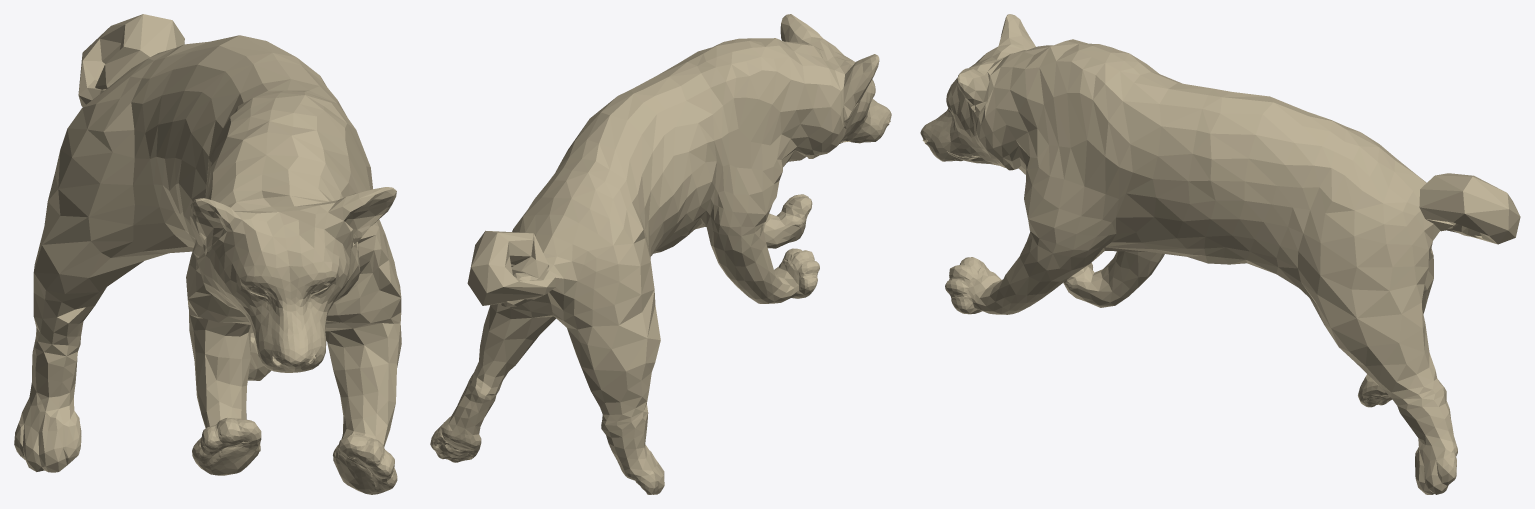
3 views of the same model, side by side, from view 1: azimuth 30°, elevation 25°; view 2: azimuth 150°, elevation 25°; view 3: azimuth 270°, elevation 25° (orthographic). The views are drawn at different scales.
Parts seen in each view (by area): view 1: world; view 2: world; view 3: world.
Boxes of the visible parts, x1=… form: world: x1=14, y1=14, x2=401, y2=494; world: x1=430, y1=14, x2=891, y2=494; world: x1=920, y1=14, x2=1520, y2=494.
Bounding box in the file's own units: 0.6293 × 0.8241 × 1.19.
